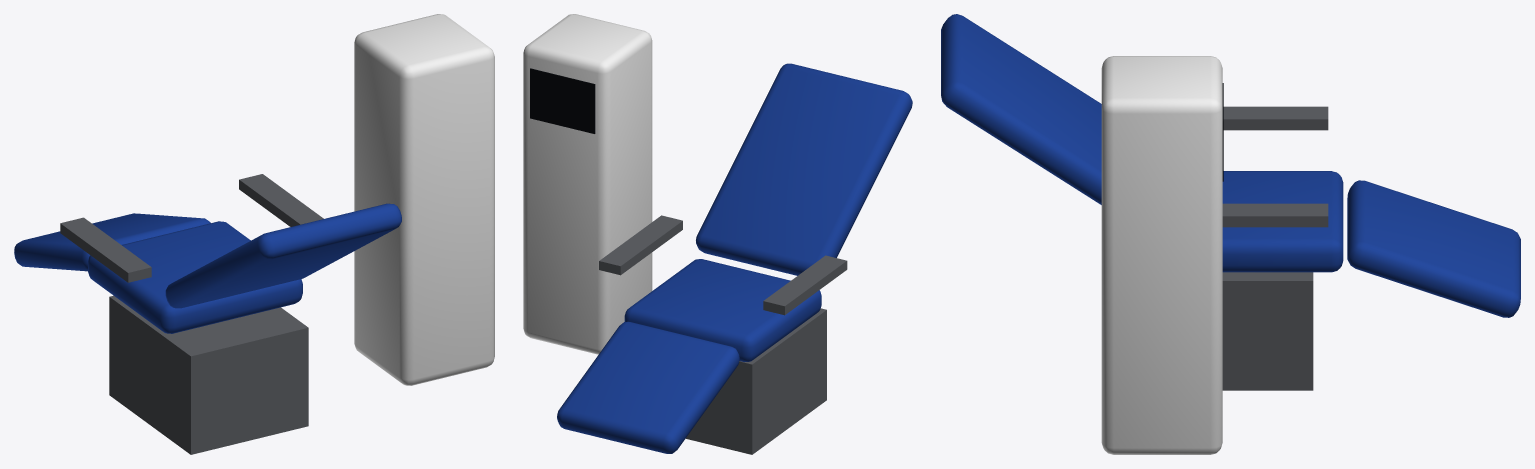
The model's file is hospital.treatment.dialysis.glb.
3 views of the same model, side by side, from view 1: azimuth 30°, elevation 25°; view 2: azimuth 150°, elevation 25°; view 3: azimuth 270°, elevation 25° (orthographic). The views are drawn at different scales.
Parts seen in each view (by area): view 1: main__plastic_white, main__plastic_grey, main__plastic_blue; view 2: main__plastic_blue, main__plastic_white, main__plastic_grey, main__screen; view 3: main__plastic_white, main__plastic_blue, main__plastic_grey.
Part boxes in pixels (left/top/right/bottom): main__plastic_white: left=354, top=14, right=494, bottom=385; main__plastic_grey: left=60, top=174, right=323, bottom=454; main__plastic_blue: left=14, top=203, right=401, bottom=333; main__plastic_blue: left=557, top=63, right=912, bottom=453; main__plastic_white: left=523, top=14, right=652, bottom=354; main__plastic_grey: left=599, top=215, right=847, bottom=454; main__screen: left=530, top=68, right=595, bottom=133; main__plastic_white: left=1101, top=56, right=1222, bottom=454; main__plastic_blue: left=941, top=14, right=1520, bottom=317; main__plastic_grey: left=1222, top=106, right=1328, bottom=390.
Size of the model in its own units: 1.43 by 1.4 by 1.92.
